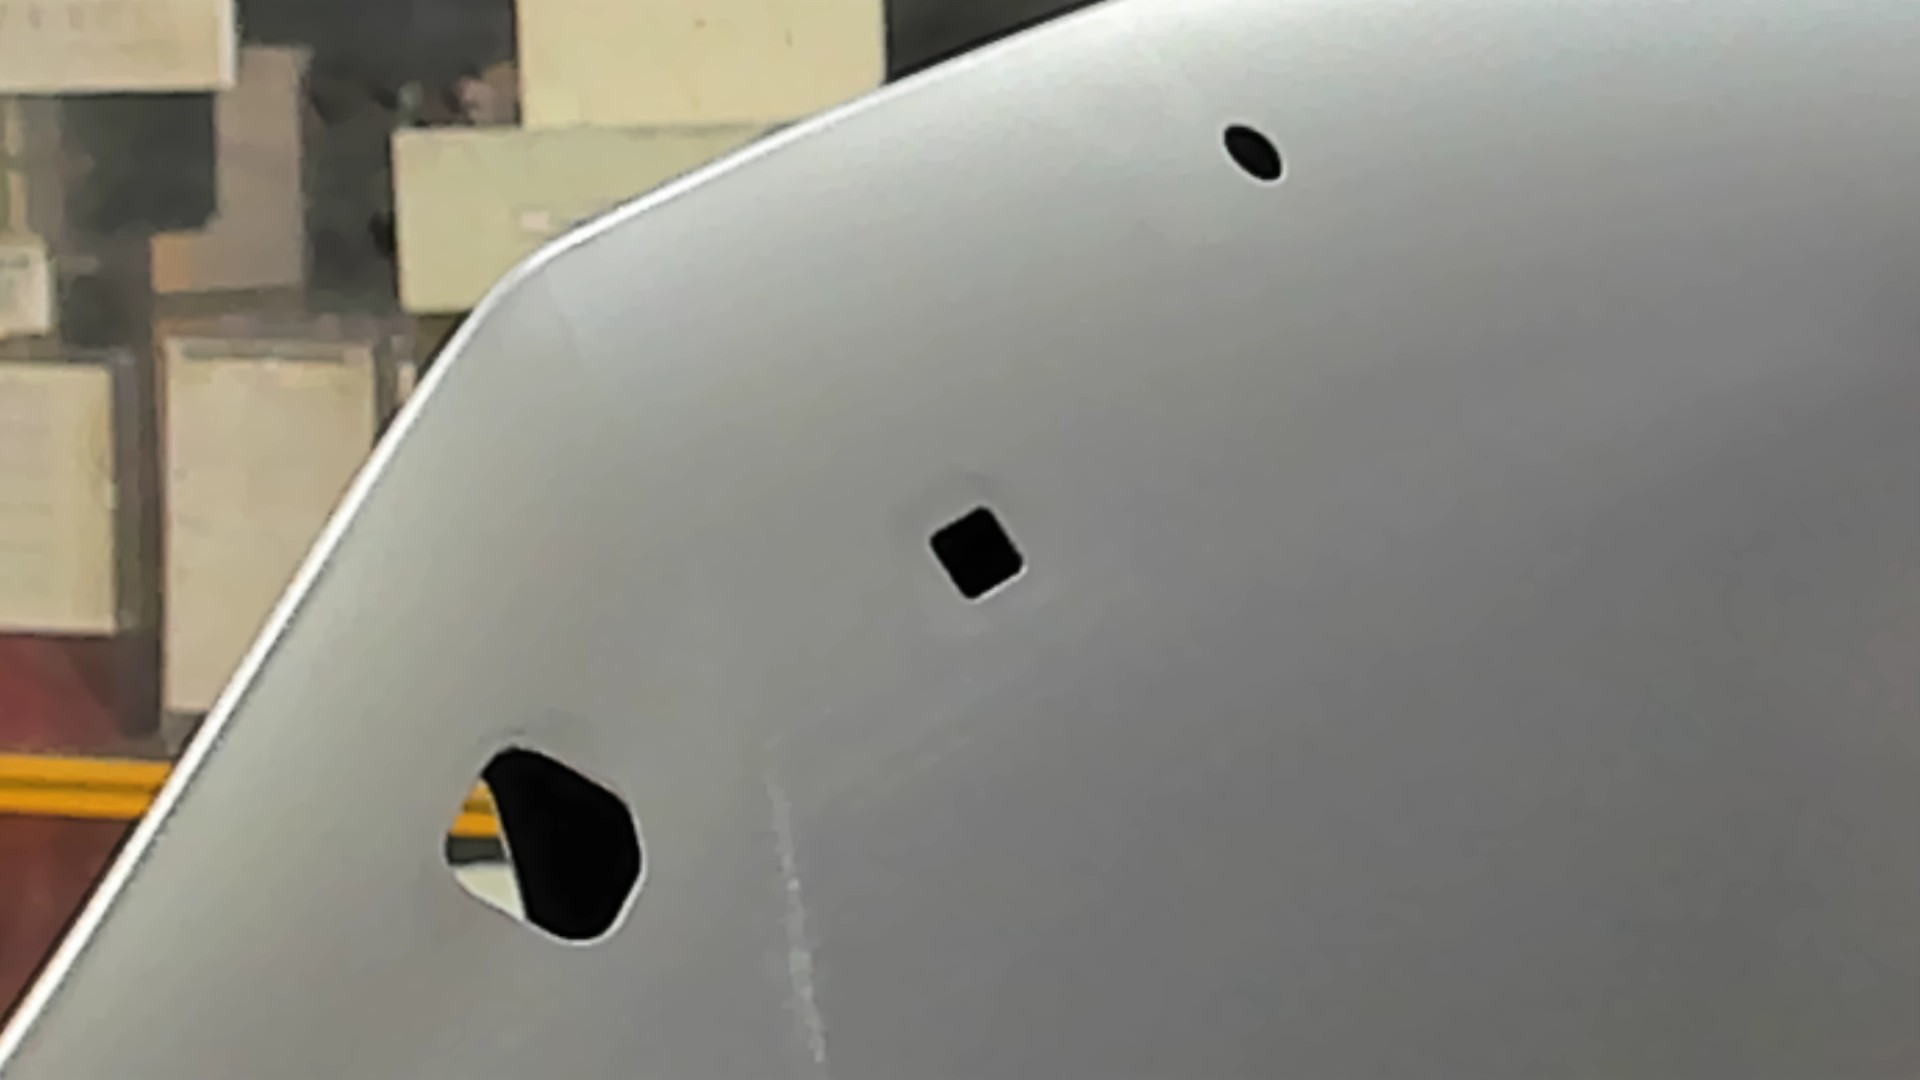chico: (1218, 119, 1286, 185)
grande: (439, 741, 650, 949)
mediano: (924, 502, 1029, 604)
